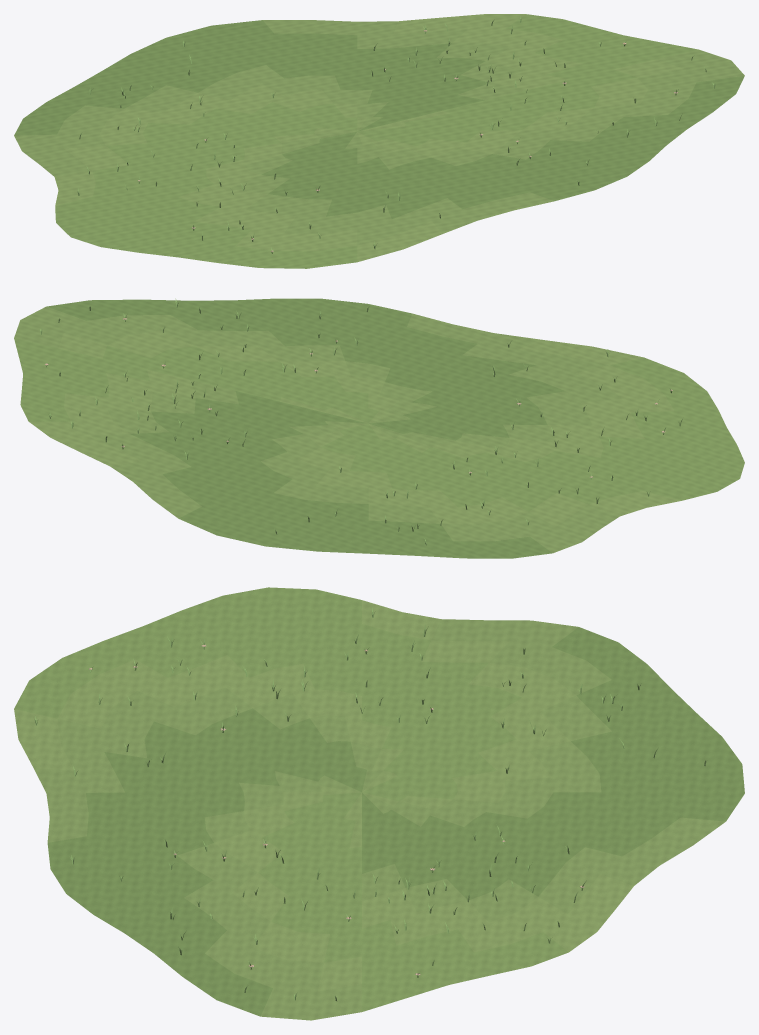
The model's file is meadow.glb.
The picture shows the model from 3 angles, top to bottom: view 1: azimuth 30°, elevation 25°; view 2: azimuth 150°, elevation 25°; view 3: azimuth 270°, elevation 25°; orthographic projection. The views are drawn at different scales.
Parts seen in each view (by area): view 1: meadow; view 2: meadow; view 3: meadow.
Boxes of the visible parts, x1=… form: meadow: x1=14, y1=14, x2=744, y2=268; meadow: x1=14, y1=298, x2=744, y2=558; meadow: x1=14, y1=587, x2=744, y2=1020.
Size of the model in its own units: 15.4 by 0.2087 by 10.99.
Materials: 7 (4 with a texture image).
